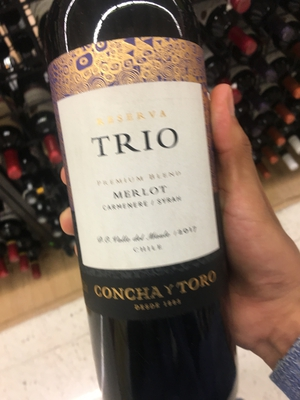trio merlot: (45, 9, 243, 389)
